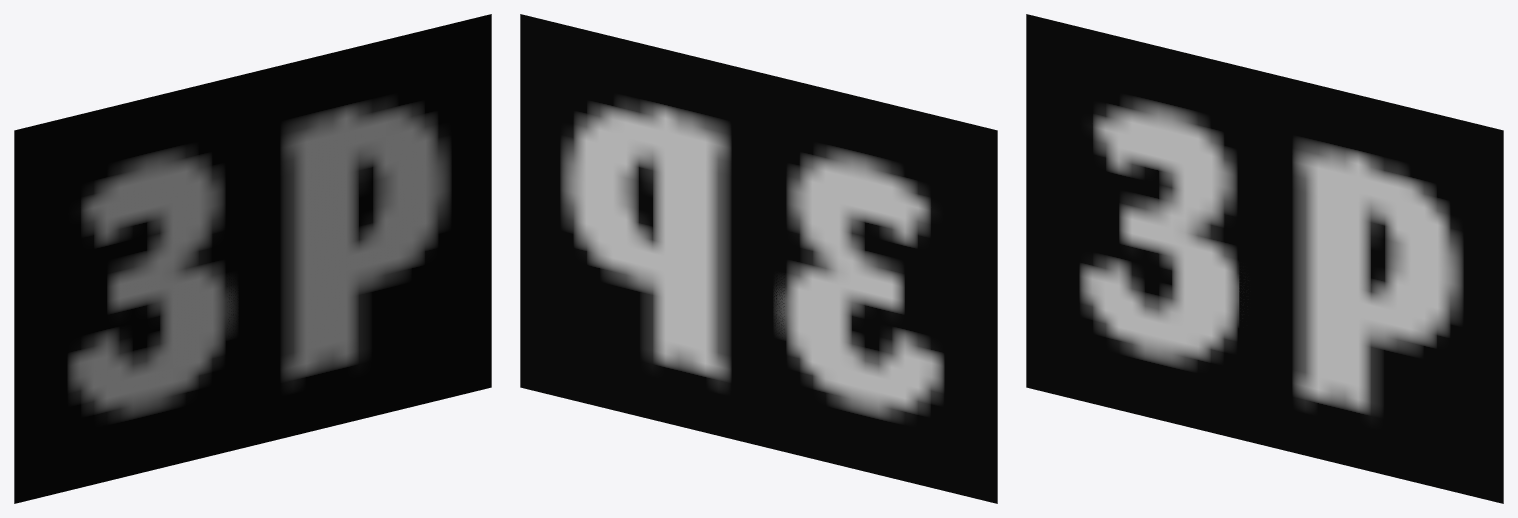
3 views of the same model, side by side, from view 1: azimuth 30°, elevation 25°; view 2: azimuth 150°, elevation 25°; view 3: azimuth 330°, elevation 25° (orthographic).
Parts seen in each view (by area): view 1: Joint_0_Object_0; view 2: Joint_0_Object_0; view 3: Joint_0_Object_0.
Part boxes in pixels (box(x1,y1,x2,y2)): Joint_0_Object_0: box(14, 14, 491, 503); Joint_0_Object_0: box(520, 14, 997, 503); Joint_0_Object_0: box(1026, 14, 1503, 503).
Bounding box in the file's own units: 24.26 × 18.14 × 0.
1 material, 1 textured.
